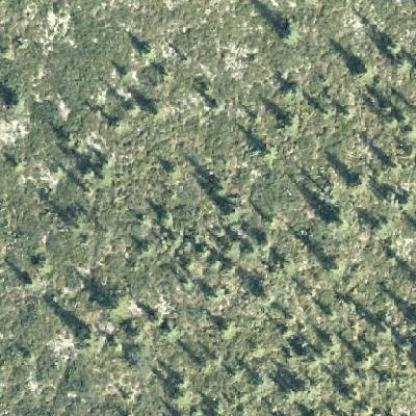tree-top: (73, 324, 99, 348), (278, 112, 300, 140), (214, 200, 239, 223), (291, 376, 314, 400), (386, 107, 410, 129), (352, 58, 374, 81), (170, 384, 194, 405), (280, 22, 300, 45), (254, 285, 274, 308), (348, 172, 368, 194), (356, 348, 374, 372), (144, 100, 165, 120), (326, 215, 348, 232), (7, 93, 27, 110)
